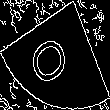O_NE: (30, 23, 80, 87)
